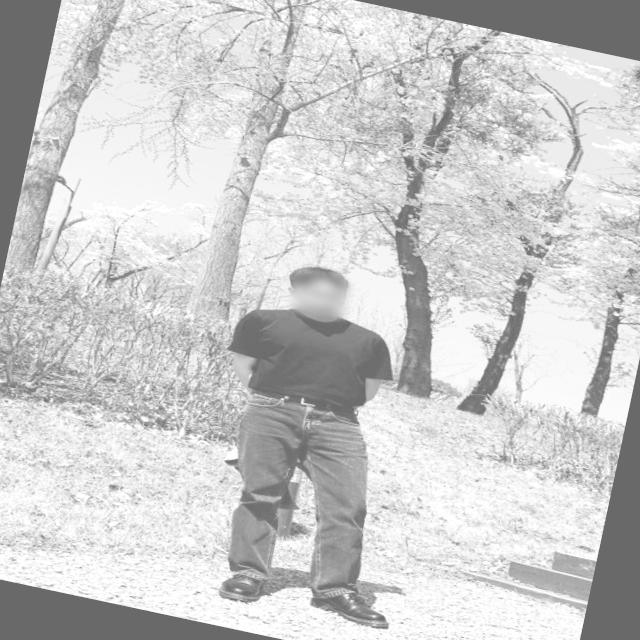denimpants: (205, 382, 398, 606)
shortsleeve: (226, 294, 398, 420)
